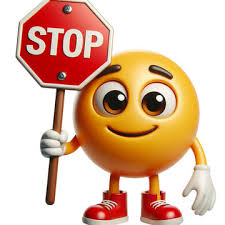stop sign: (17, 1, 113, 90)
